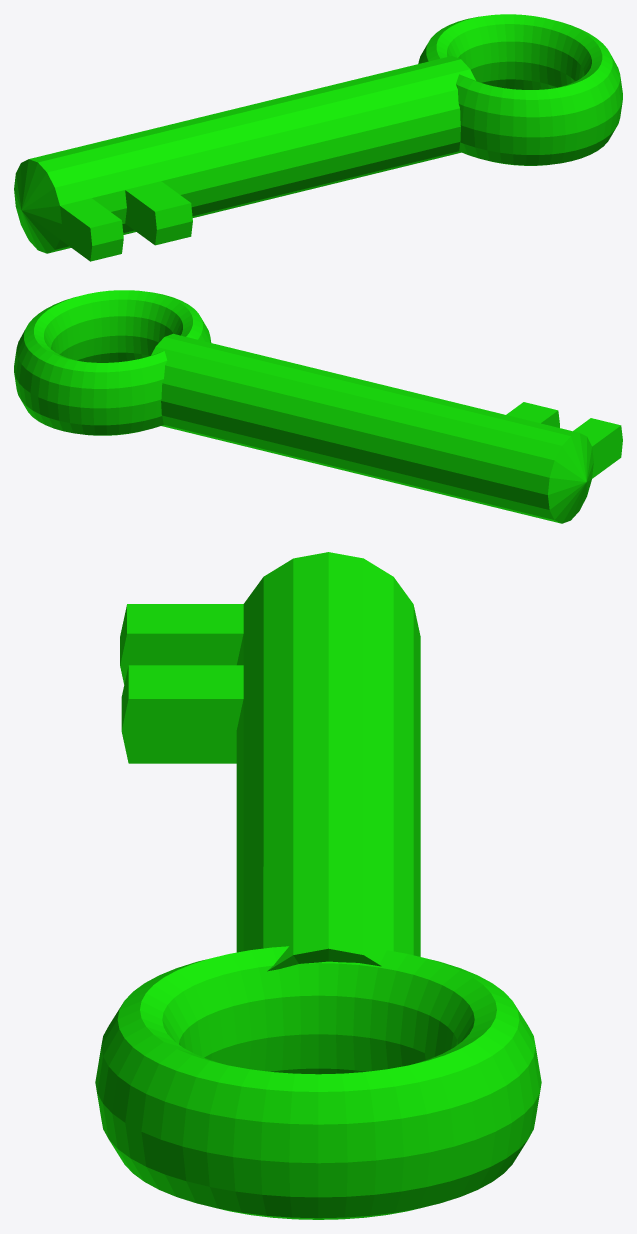
Rendered from GreenKey.fbx.
3 views of the same model, one above another, from view 1: azimuth 30°, elevation 25°; view 2: azimuth 150°, elevation 25°; view 3: azimuth 270°, elevation 25° (orthographic). The views are drawn at different scales.
Parts seen in each view (by area): view 1: GreenKey; view 2: GreenKey; view 3: GreenKey.
Part boxes in pixels (bbox=[...]): GreenKey: bbox=[14, 14, 622, 261]; GreenKey: bbox=[14, 290, 622, 523]; GreenKey: bbox=[95, 552, 541, 1219].
Size of the model in its own units: 2.25 by 0.3256 by 0.7801.
